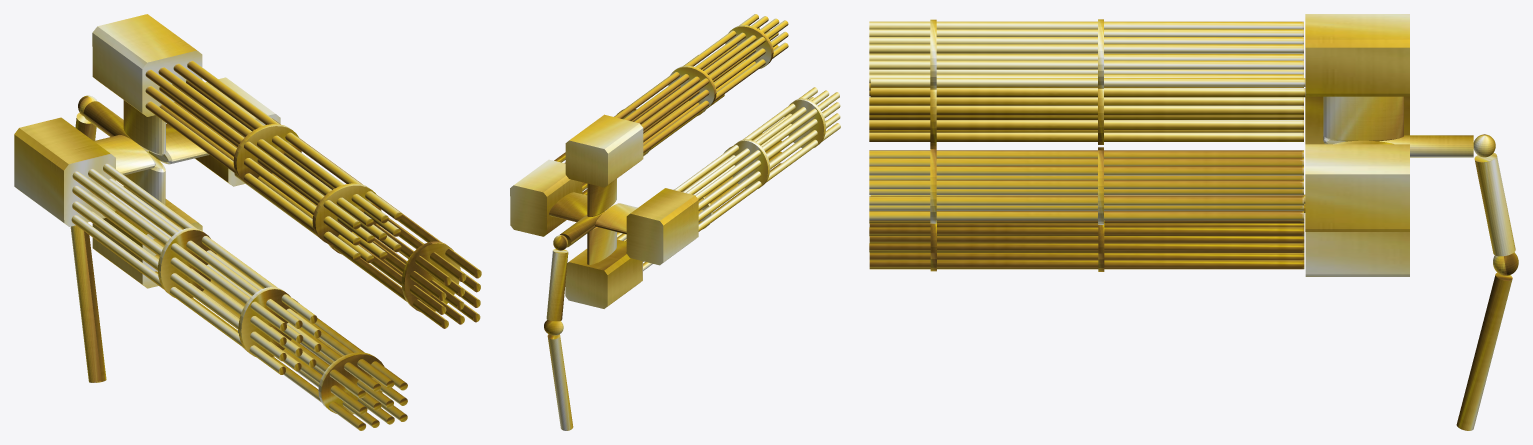
Rendered from minigun.fbx.
The picture shows the model from 3 angles, left to right: view 1: azimuth 30°, elevation 25°; view 2: azimuth 150°, elevation 25°; view 3: azimuth 270°, elevation 25°; orthographic projection. The views are drawn at different scales.
Parts seen in each view (by area): view 1: Cylinder, Cube; view 2: Cylinder, Cube; view 3: Cylinder, Cube.
Boxes of the visible parts, x1,y1,x2,y2 form: Cylinder: (71,60,481,430); Cube: (14,14,280,382); Cylinder: (549,14,840,270); Cube: (510,114,698,430); Cylinder: (869,19,1403,271); Cube: (1305,14,1518,430).
Bounding box in the file's own units: 2549 × 4239 × 6187.
